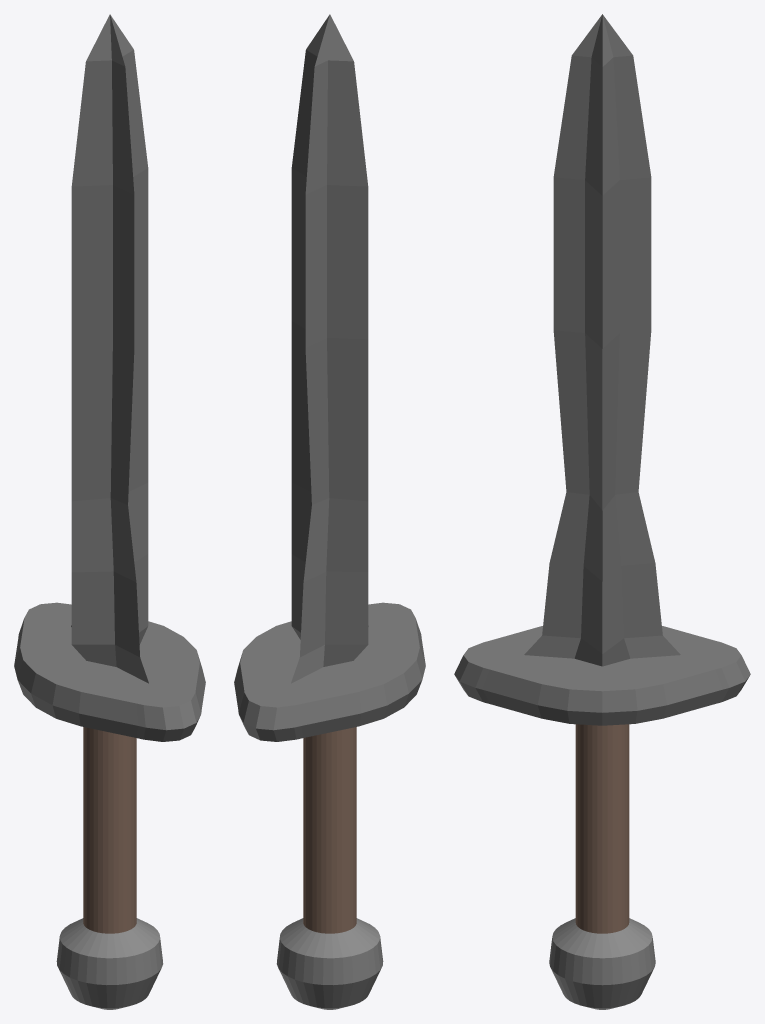
Rendered from TesterSword_Quadblade.fbx.
The picture shows the model from 3 angles, left to right: view 1: azimuth 30°, elevation 25°; view 2: azimuth 150°, elevation 25°; view 3: azimuth 270°, elevation 25°; orthographic projection.
Parts seen in each view (by area): view 1: Cube.001; view 2: Cube.001; view 3: Cube.001.
Part boxes in pixels (x1,y1,x2,y2): Cube.001: (14, 14, 205, 1009); Cube.001: (234, 14, 425, 1009); Cube.001: (454, 14, 750, 1009).
Size of the model in its own units: 768 by 4593 by 1249.
